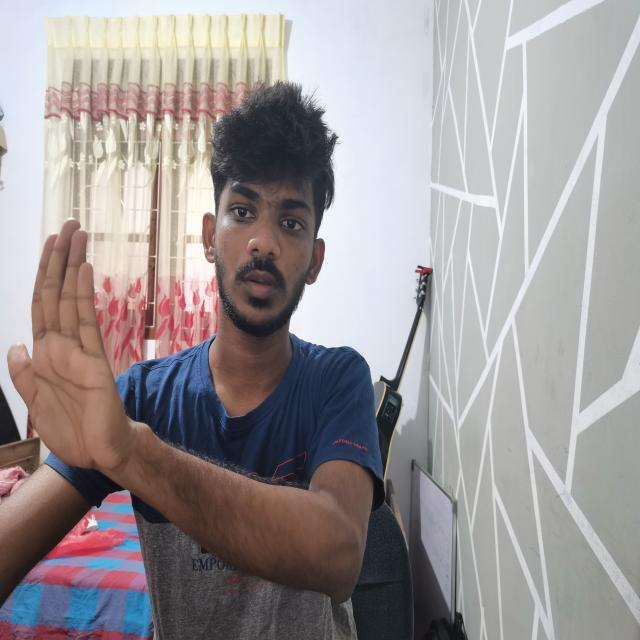Hello: (3, 208, 138, 487)
